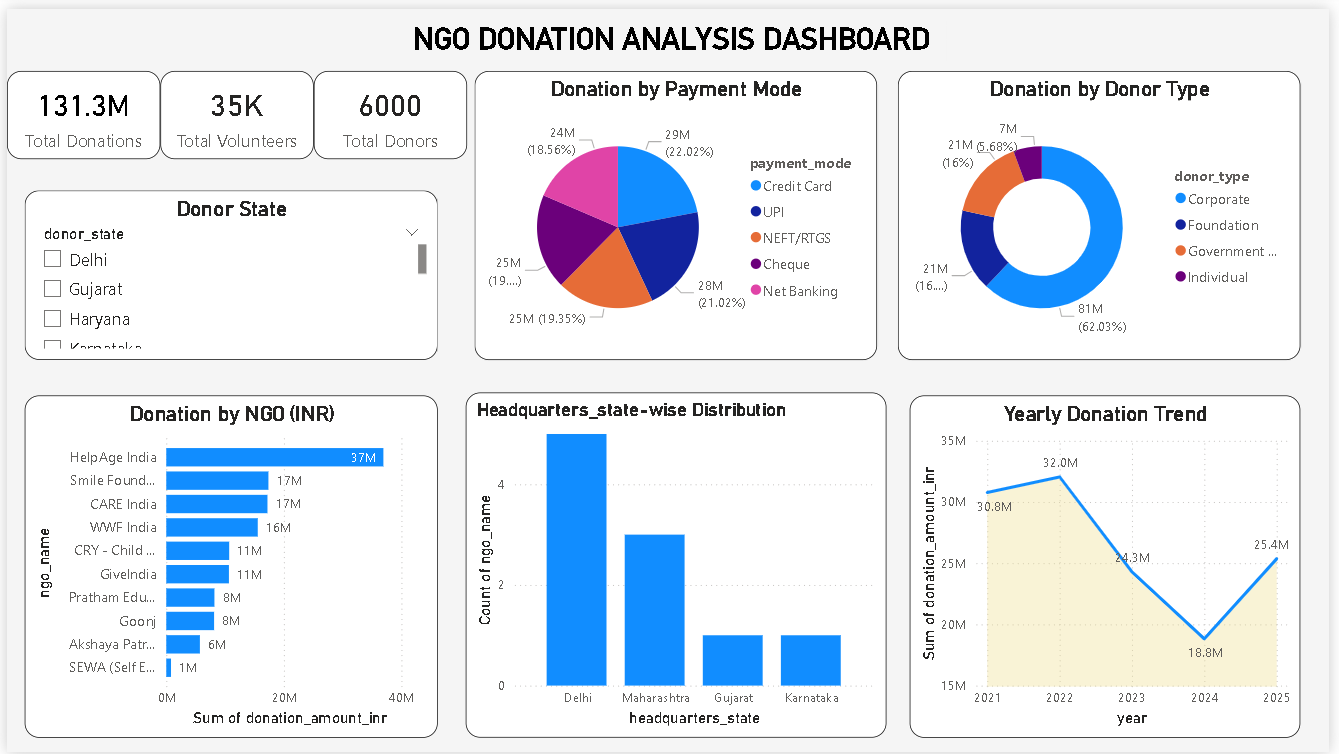

The page's visual inventory and layout, read from the dashboard file:
{"tool":"powerbi","page":{"name":"Page 1","canvas":[1280,720],"ordinal":0},"visuals":[{"type":"card","fields":{"Values":["dim_campaign.Total Donations"]},"box":[0,60,148.6,85.7],"z":0},{"type":"card","fields":{"Values":["dim_campaign.Total Donors"]},"box":[297.1,60,148.6,85.7],"z":1000},{"type":"card","fields":{"Values":["dim_campaign.Total Volunteers"]},"box":[148.6,60,148.6,85.7],"z":2000},{"type":"clusteredBarChart","title":"Donation  by NGO (INR)","fields":{"Category":["dim_ngo.ngo_name","dim_campaign.campaign_name"],"Y":["Sum(fact_donations.donation_amount_inr)"]},"box":[17.1,374.3,400,331.4],"z":3000},{"type":"lineChart","title":"Yearly Donation Trend","fields":{"Y":["Sum(fact_donations.donation_amount_inr)"],"Category":["dim_date.year"]},"box":[874.3,374.3,378.6,331.4],"z":4000},{"type":"donutChart","title":"Donation by Donor Type","fields":{"Category":["fact_donations.donor_type"],"Y":["Sum(fact_donations.donation_amount_inr)"]},"box":[862.9,60,390,280],"z":5000},{"type":"pieChart","title":"Donation by Payment Mode","fields":{"Y":["Sum(fact_donations.donation_amount_inr)"],"Category":["fact_donations.payment_mode"]},"box":[452.9,60,390,280],"z":6000},{"type":"textbox","title":"NGO DONATION  ANALYSIS DASHBOARD","box":[388.6,11.4,521.4,38.6],"z":7000},{"type":"slicer","title":"Donor State","fields":{"Values":["fact_donations.donor_state"]},"box":[17.1,175.7,400,164.3],"z":11000},{"type":"clusteredColumnChart","title":" Headquarters_state-wise Distribution","fields":{"Category":["dim_ngo.headquarters_state"],"Y":["CountNonNull(dim_ngo.ngo_name)"]},"box":[444.3,371.4,407.1,334.3],"z":12000}]}

Visuals, with their boxes in screenshot pixels (x1, y1, x2, y2), scaled from the page's 1280x720 canvas onto the 1339x754 screenshot:
card - dim_campaign.Total Donations: pyautogui.locateOnScreen(0, 63, 155, 153)
card - dim_campaign.Total Donors: pyautogui.locateOnScreen(311, 63, 466, 153)
card - dim_campaign.Total Volunteers: pyautogui.locateOnScreen(155, 63, 311, 153)
"Donation  by NGO (INR)" clusteredBarChart: pyautogui.locateOnScreen(18, 392, 436, 739)
"Yearly Donation Trend" lineChart: pyautogui.locateOnScreen(915, 392, 1311, 739)
"Donation by Donor Type" donutChart: pyautogui.locateOnScreen(903, 63, 1311, 356)
"Donation by Payment Mode" pieChart: pyautogui.locateOnScreen(474, 63, 882, 356)
"NGO DONATION  ANALYSIS DASHBOARD" textbox: pyautogui.locateOnScreen(407, 12, 952, 52)
"Donor State" slicer: pyautogui.locateOnScreen(18, 184, 436, 356)
" Headquarters_state-wise Distribution" clusteredColumnChart: pyautogui.locateOnScreen(465, 389, 891, 739)
